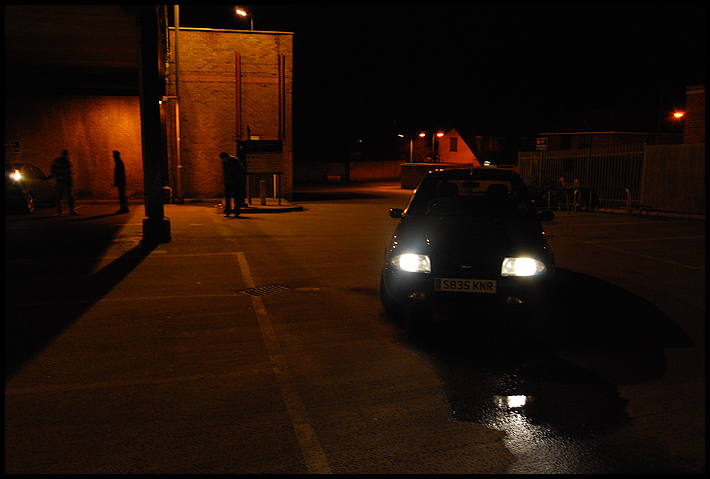car: (371, 160, 565, 333)
